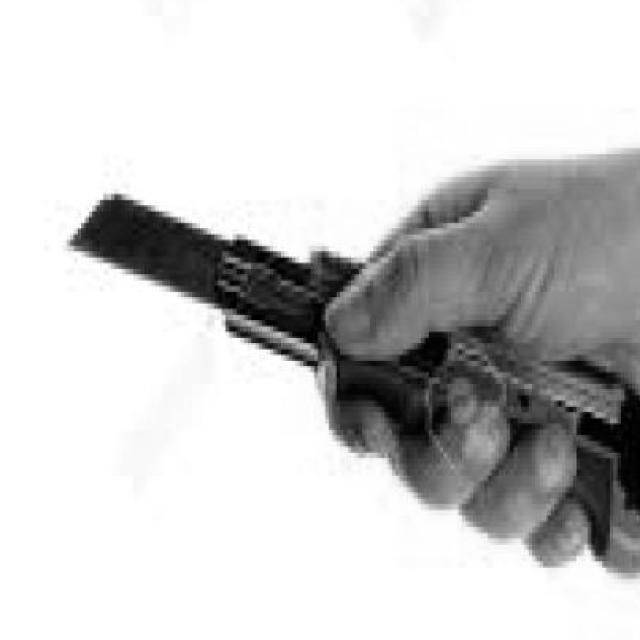estilete: (74, 196, 640, 570)
